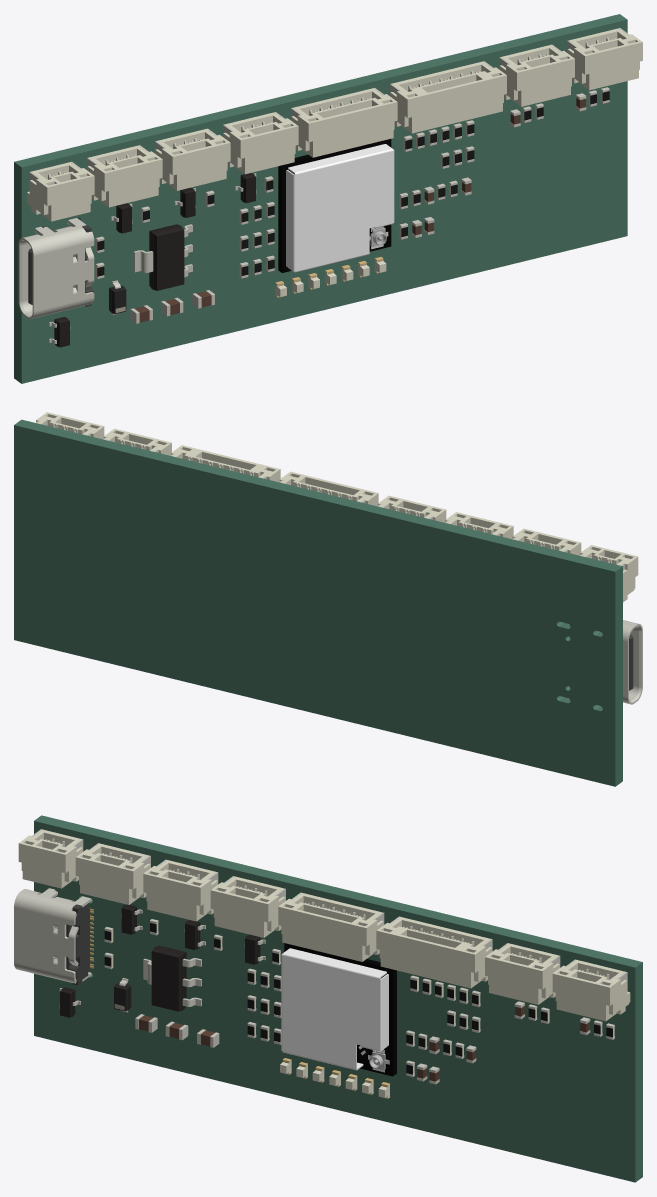
File: board.glb
3 renders of one model, top to bottom at view 1: azimuth 30°, elevation 25°; view 2: azimuth 150°, elevation 25°; view 3: azimuth 330°, elevation 25°, orthographic.
Parts seen in each view (by area): view 1: =>[0:1:1:28], =>[0:1:1:19]_adffb9, =>[0:1:1:25]_3ab529, =>[0:1:1:21]_b888a5, =>[0:1:1:3]_aad933, =>[0:1:1:11]_4_eb47bd, =>[0:1:1:11]_1_5842cb, =>[0:1:1:11]_de4ad3, =>[0:1:1:11]_2_d2efd2, =>[0:1:1:11]_3_0f9fa7, =>[0:1:1:15]_f7e977, =>[0:1:1:27]_11ad84 (+2 smaller); view 2: =>[0:1:1:28], =>[0:1:1:21]_b888a5, =>[0:1:1:25]_3ab529, =>[0:1:1:3]_aad933, =>[0:1:1:15]_f7e977, =>[0:1:1:11]_de4ad3, =>[0:1:1:11]_1_5842cb, =>[0:1:1:11]_2_d2efd2, =>[0:1:1:11]_4_eb47bd, =>[0:1:1:11]_3_0f9fa7; view 3: =>[0:1:1:28], =>[0:1:1:19]_adffb9, =>[0:1:1:21]_b888a5, =>[0:1:1:25]_3ab529, =>[0:1:1:3]_aad933, =>[0:1:1:11]_2_d2efd2, =>[0:1:1:11]_1_5842cb, =>[0:1:1:11]_de4ad3, =>[0:1:1:11]_4_eb47bd, =>[0:1:1:11]_3_0f9fa7, =>[0:1:1:15]_f7e977, =>[0:1:1:27]_11ad84 (+3 smaller).
Boxes of the visible parts, x1,y1,x2,y2 form: =>[0:1:1:28]: (14, 14, 627, 383); =>[0:1:1:19]_adffb9: (286, 144, 394, 272); =>[0:1:1:25]_3ab529: (18, 218, 94, 319); =>[0:1:1:21]_b888a5: (390, 61, 506, 133); =>[0:1:1:3]_aad933: (291, 88, 397, 157); =>[0:1:1:11]_4_eb47bd: (155, 129, 230, 190); =>[0:1:1:11]_1_5842cb: (223, 112, 298, 174); =>[0:1:1:11]_de4ad3: (87, 145, 162, 207); =>[0:1:1:11]_2_d2efd2: (567, 28, 642, 90); =>[0:1:1:11]_3_0f9fa7: (499, 45, 574, 106); =>[0:1:1:15]_f7e977: (27, 162, 94, 221); =>[0:1:1:27]_11ad84: (149, 224, 184, 290); =>[0:1:1:28]: (14, 419, 622, 786); =>[0:1:1:21]_b888a5: (171, 445, 280, 482); =>[0:1:1:25]_3ab529: (565, 620, 642, 706); =>[0:1:1:3]_aad933: (279, 471, 378, 506); =>[0:1:1:15]_f7e977: (580, 545, 638, 602); =>[0:1:1:11]_de4ad3: (512, 528, 581, 555); =>[0:1:1:11]_1_5842cb: (378, 495, 446, 522); =>[0:1:1:11]_2_d2efd2: (36, 412, 104, 439); =>[0:1:1:11]_4_eb47bd: (445, 512, 513, 538); =>[0:1:1:11]_3_0f9fa7: (103, 428, 171, 455); =>[0:1:1:28]: (34, 815, 642, 1182); =>[0:1:1:19]_adffb9: (281, 948, 388, 1070); =>[0:1:1:21]_b888a5: (376, 917, 492, 988); =>[0:1:1:25]_3ab529: (14, 888, 91, 983); =>[0:1:1:3]_aad933: (278, 893, 383, 961); =>[0:1:1:11]_2_d2efd2: (552, 960, 630, 1021); =>[0:1:1:11]_1_5842cb: (210, 876, 285, 937); =>[0:1:1:11]_de4ad3: (75, 843, 150, 904); =>[0:1:1:11]_4_eb47bd: (143, 860, 217, 921); =>[0:1:1:11]_3_0f9fa7: (485, 943, 559, 1004); =>[0:1:1:15]_f7e977: (18, 829, 82, 888); =>[0:1:1:27]_11ad84: (151, 945, 186, 1011).
Size of the model in its own units: 73.69 by 25 by 5.89.
